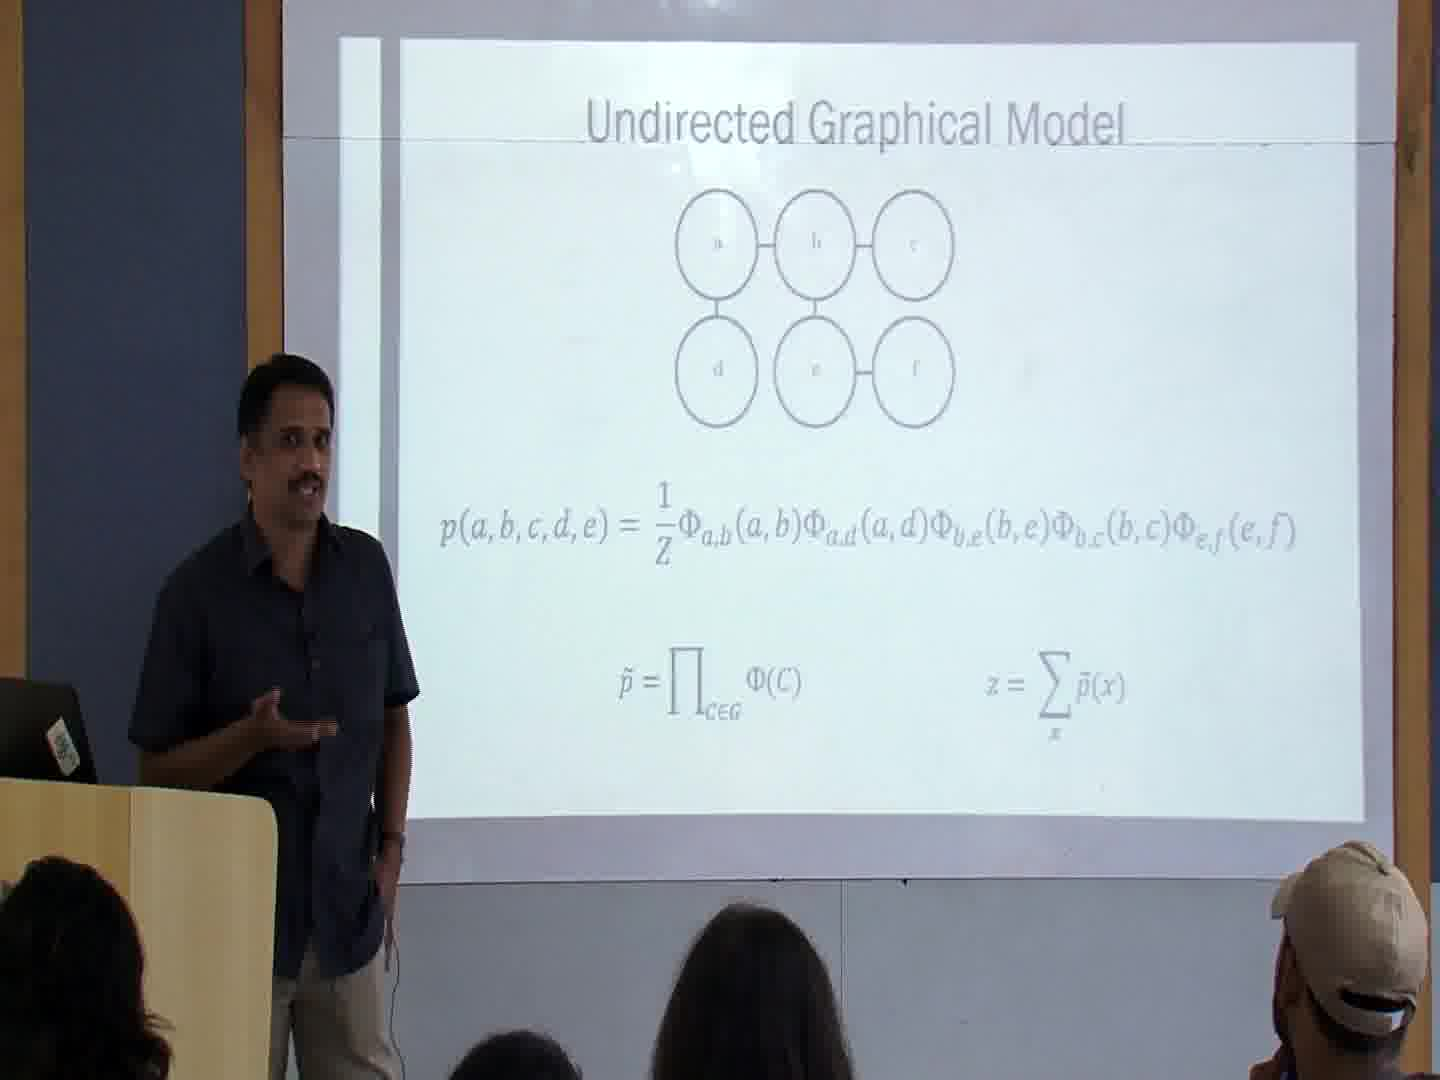eq: (439, 478, 1305, 569), (610, 644, 805, 727), (980, 644, 1133, 743)
